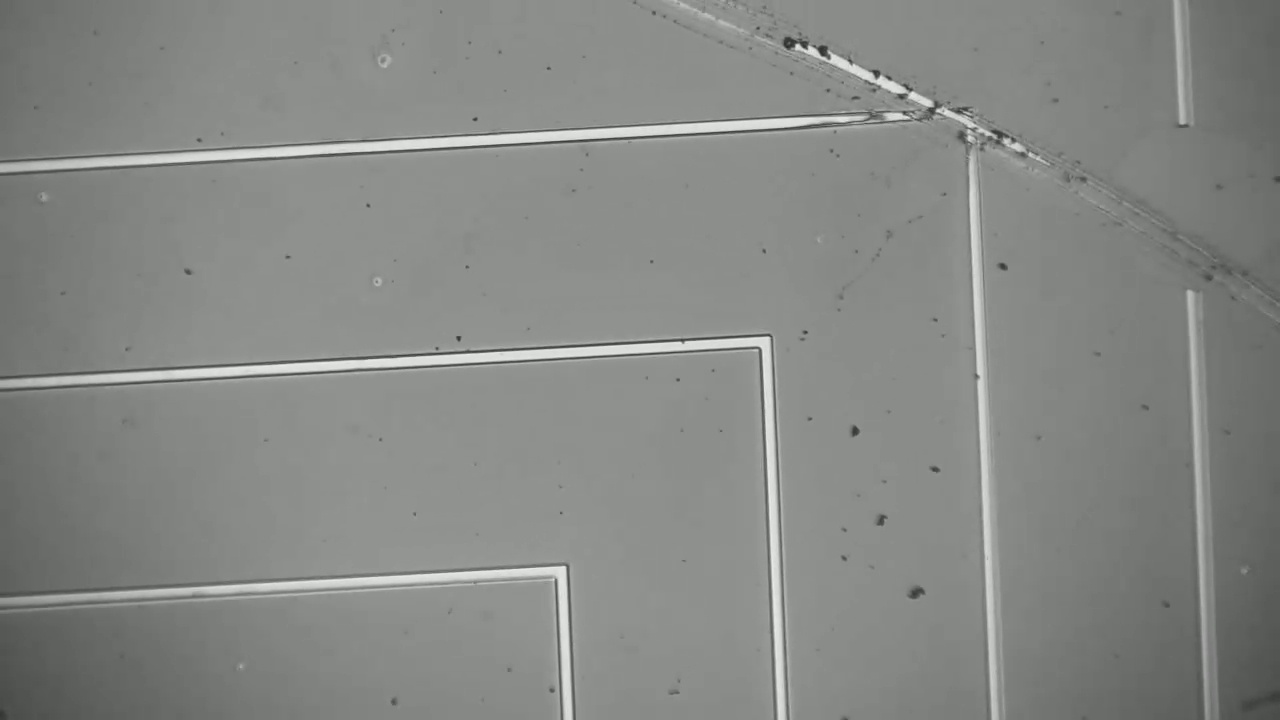open: (1144, 88, 1227, 333)
scratch: (639, 0, 1266, 301)
